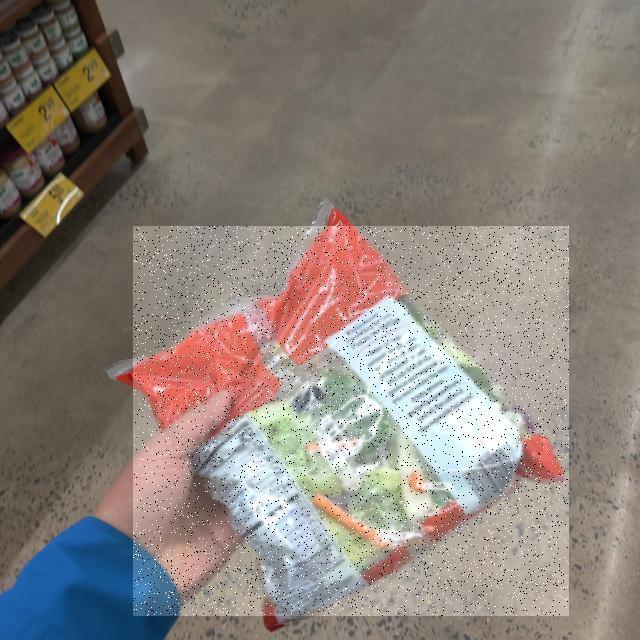Lettuce: (133, 226, 569, 616)
